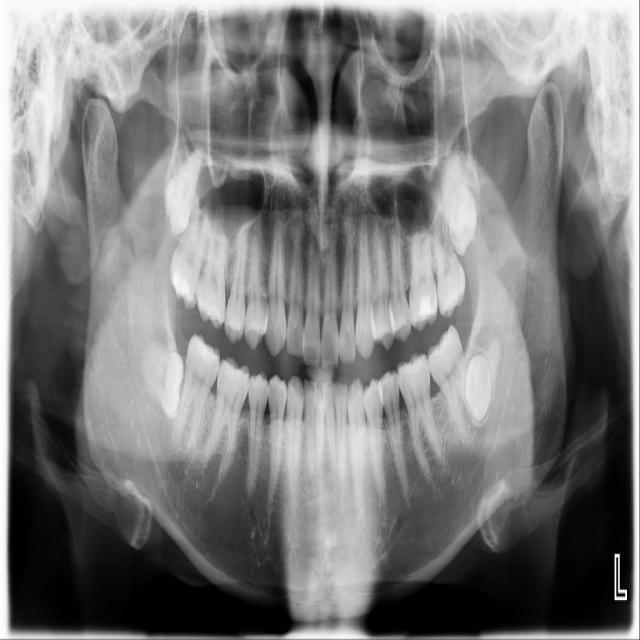Filling: (409, 294, 438, 321), (170, 271, 192, 303)
impacted tooth: (443, 141, 479, 252), (134, 342, 182, 420), (166, 143, 204, 232), (465, 333, 503, 422)
